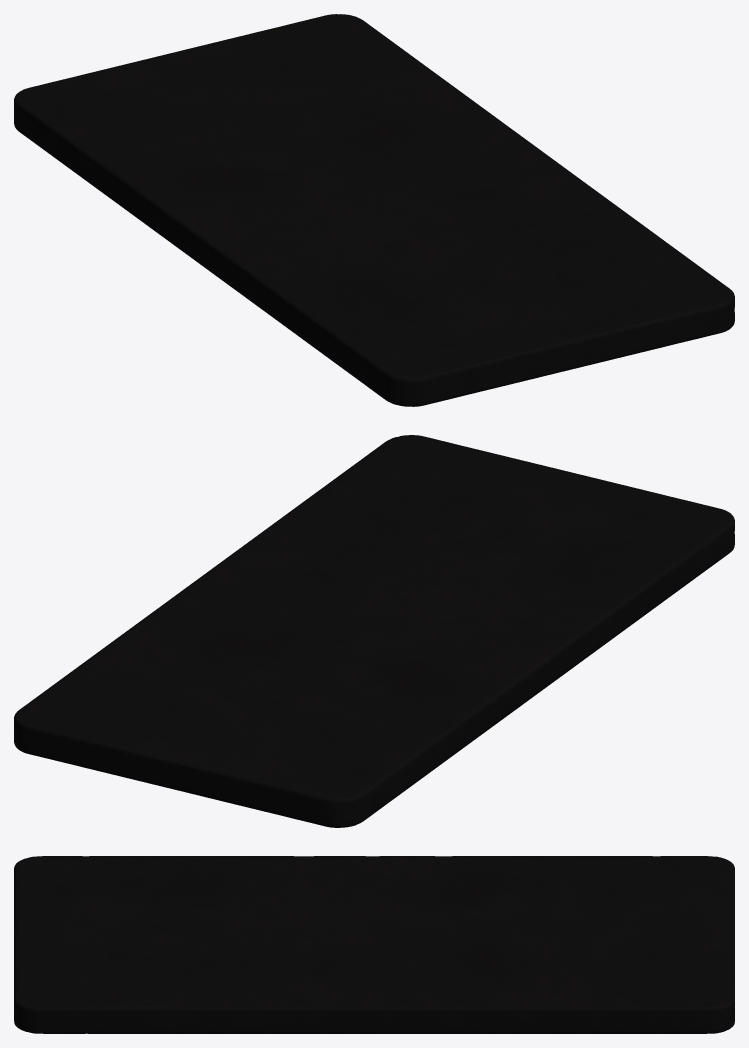
Rendered from yoga_roll_rolledout_lod.glb.
3 renders of one model, top to bottom at view 1: azimuth 30°, elevation 25°; view 2: azimuth 150°, elevation 25°; view 3: azimuth 270°, elevation 25°, orthographic. The views are drawn at different scales.
Parts seen in each view (by area): view 1: world; view 2: world; view 3: world.
Boxes of the visible parts, x1,y1,x2,y2 form: world: [14, 14, 734, 406]; world: [14, 435, 734, 827]; world: [14, 856, 734, 1033].
Size of the model in its own units: 0.5037 by 0.0406 by 1.
1 material, 1 textured.
